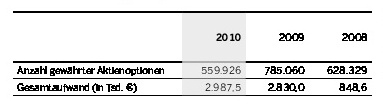table: (0, 0, 383, 109)
